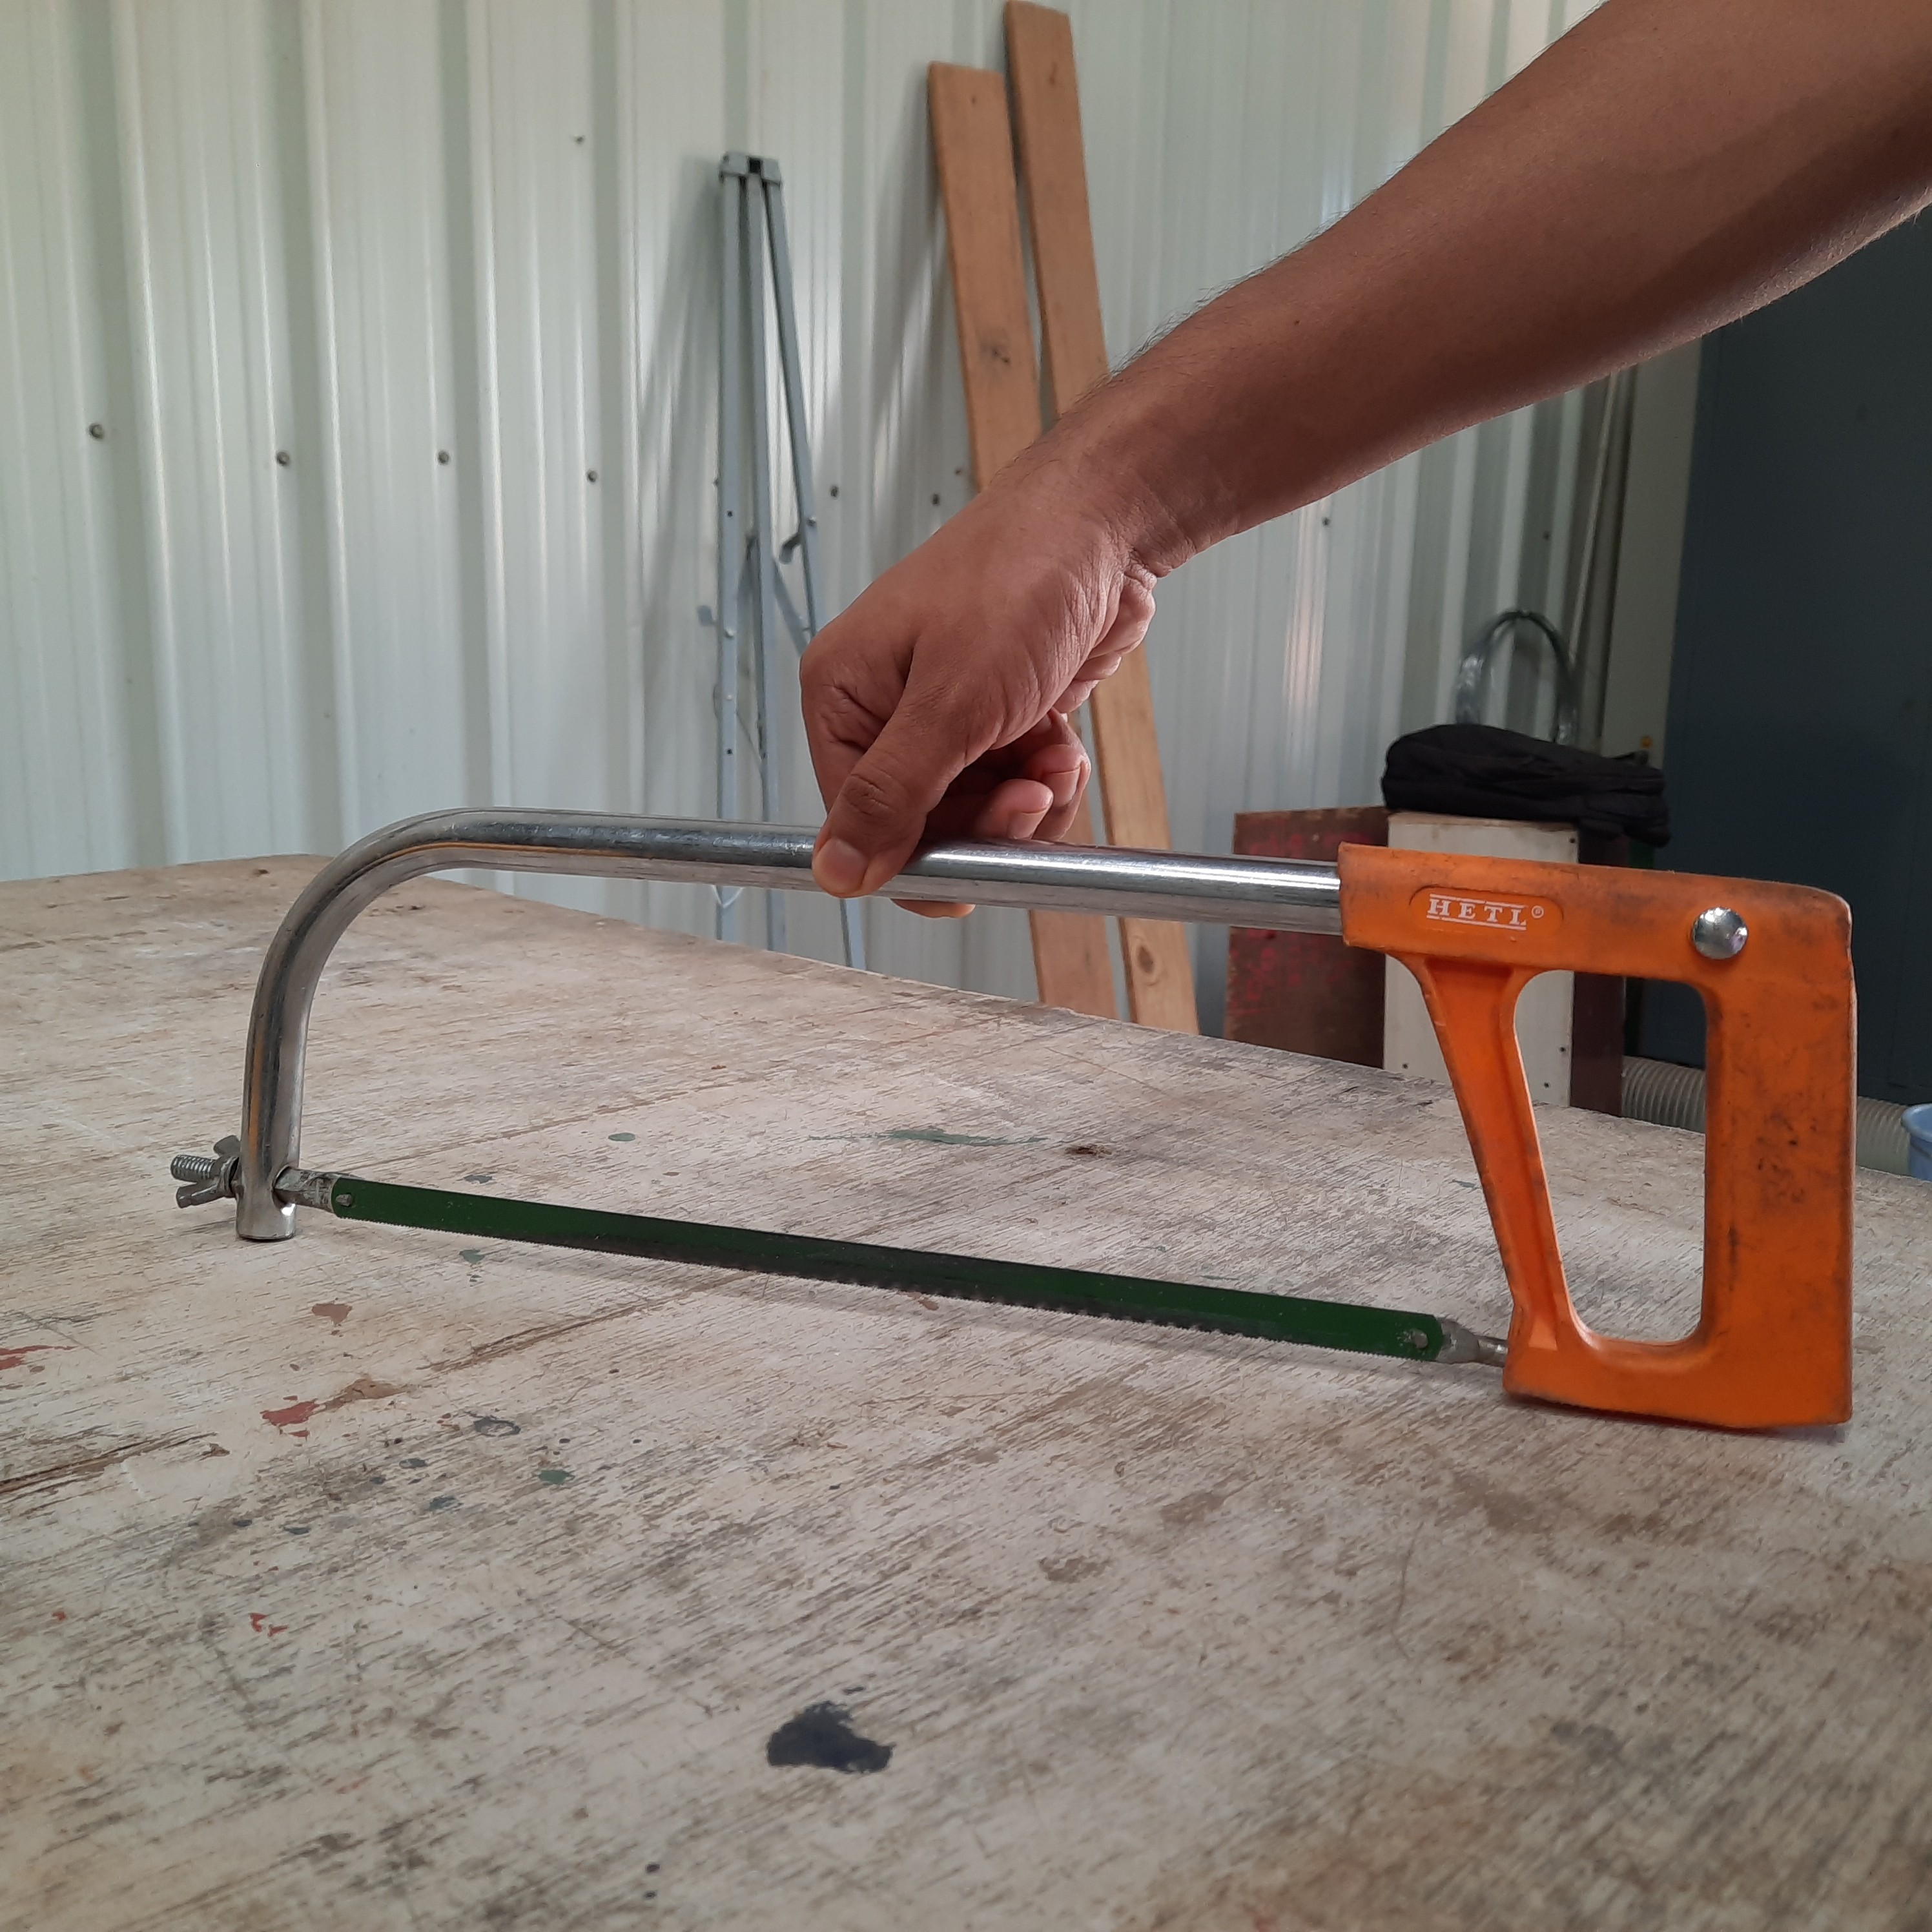Hexaframe: (175, 761, 1891, 1453)
